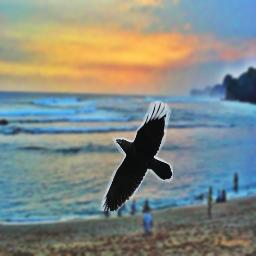Crow: (101, 100, 173, 211)
